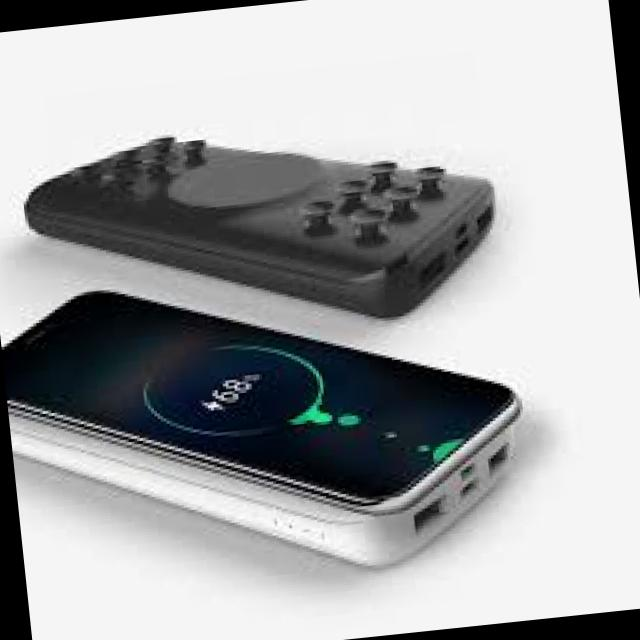power_bank: (9, 361, 538, 607), (22, 98, 504, 356)
